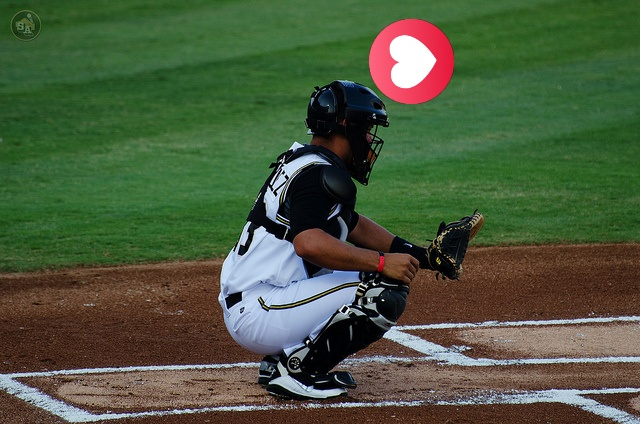love: (369, 19, 454, 104)
